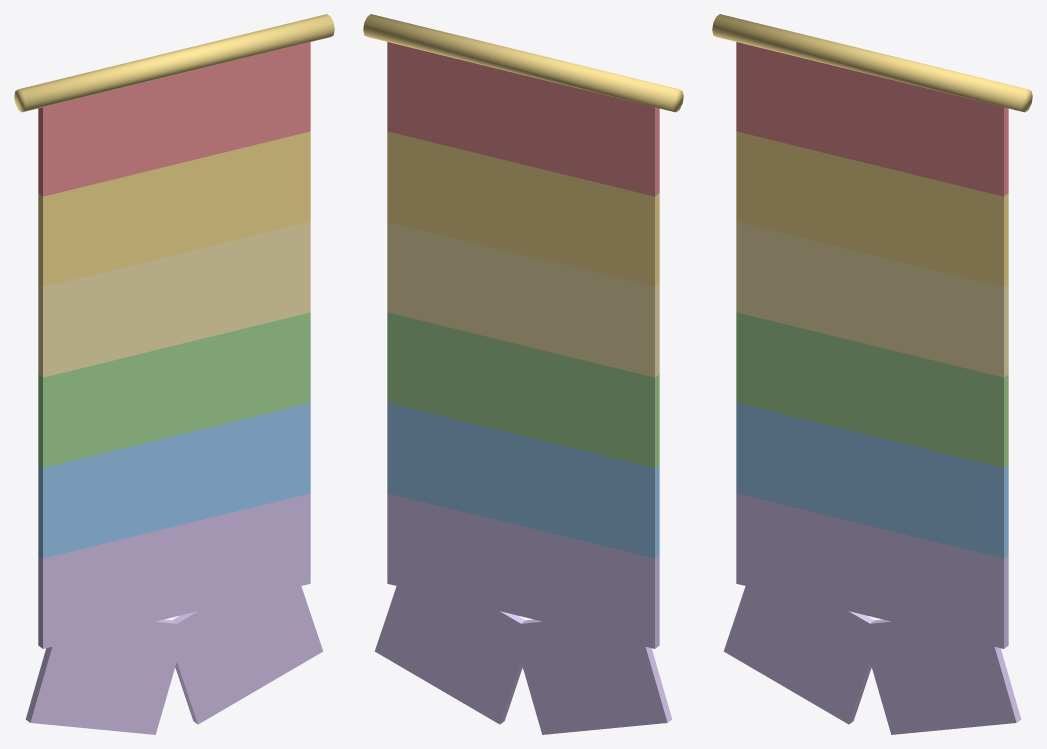
Rendered from fx_banner.glb.
3 views of the same model, side by side, from view 1: azimuth 30°, elevation 25°; view 2: azimuth 150°, elevation 25°; view 3: azimuth 330°, elevation 25° (orthographic).
Visible parts, largest first — view 1: fx_banner; view 2: fx_banner; view 3: fx_banner.
Boxes of the visible parts, left/top/right/bottom form: fx_banner: left=14, top=14, right=334, bottom=734; fx_banner: left=363, top=14, right=683, bottom=734; fx_banner: left=712, top=14, right=1032, bottom=734.
Bounding box in the file's own units: 1.5 × 3.13 × 0.1.
